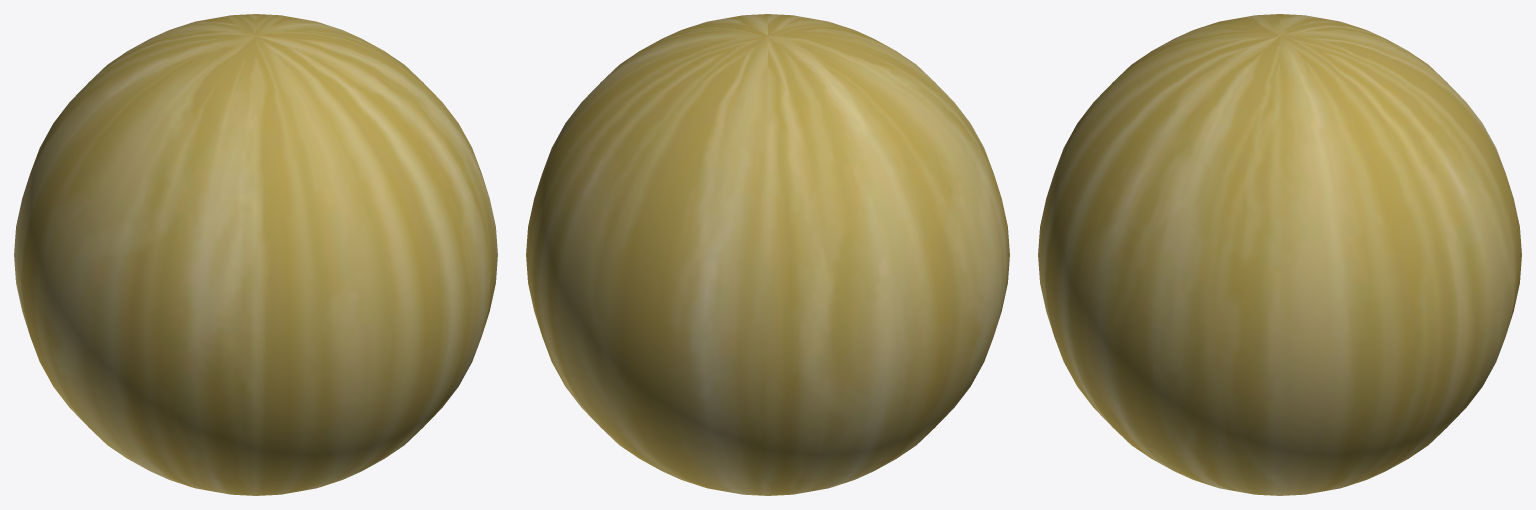
File: bwg_ball__bwg_ball_yellow_mirror.glb
3 renders of one model, left to right at view 1: azimuth 30°, elevation 25°; view 2: azimuth 150°, elevation 25°; view 3: azimuth 270°, elevation 25°, orthographic.
Visible parts, largest first — view 1: polygon0; view 2: polygon0; view 3: polygon0.
Part boxes in pixels (x1,y1,x2,y2): polygon0: (14, 14, 497, 495); polygon0: (526, 14, 1009, 495); polygon0: (1038, 14, 1521, 495).
Bounding box in the file's own units: 2.18 × 2.18 × 2.18.
Materials: 1 (1 with a texture image).
